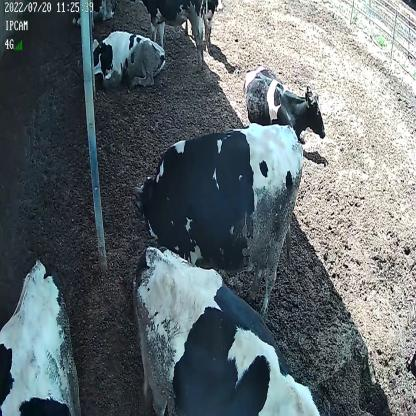cow: (129, 243, 321, 416), (132, 120, 303, 312), (241, 60, 327, 147), (130, 0, 208, 74), (88, 28, 166, 91)
